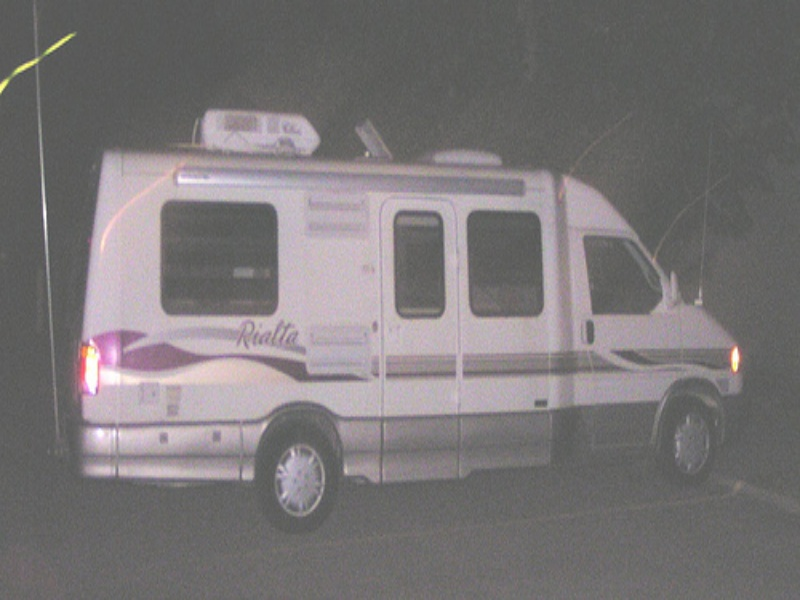car: (64, 108, 745, 534)
